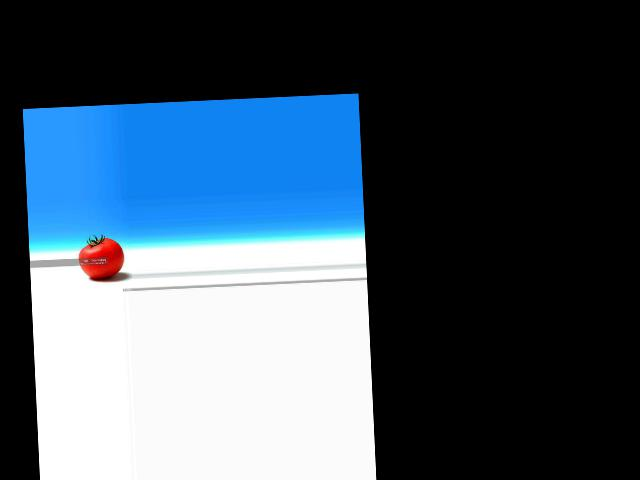tomato: (77, 237, 124, 278)
